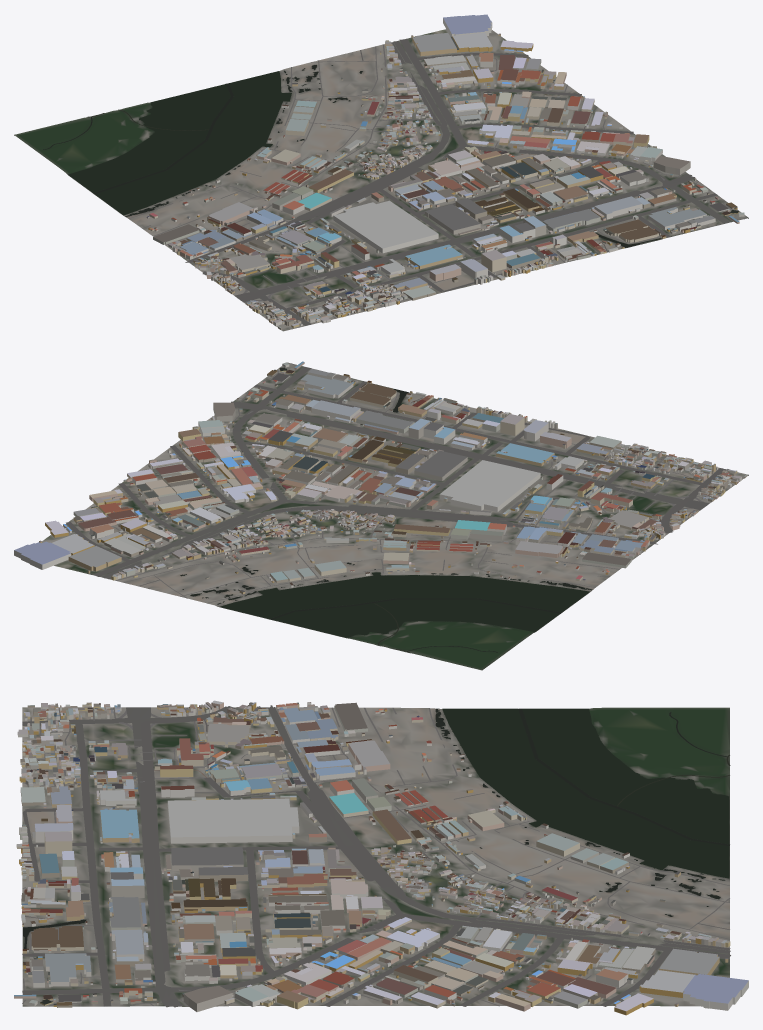
3 renders of one model, top to bottom at view 1: azimuth 30°, elevation 25°; view 2: azimuth 150°, elevation 25°; view 3: azimuth 270°, elevation 25°, orthographic. The views are drawn at different scales.
Parts seen in each view (by area): view 1: buildings, ground, water, roads; view 2: buildings, ground, water, roads; view 3: buildings, ground, water, roads.
Part boxes in pixels (<box>): buildings: <box>146,14,744,329</box>; ground: <box>14,29,748,331</box>; water: <box>43,65,661,247</box>; roads: <box>128,39,744,325</box>; buildings: <box>14,361,747,594</box>; ground: <box>42,362,748,670</box>; water: <box>180,383,592,652</box>; roads: <box>66,363,734,603</box>; buildings: <box>14,700,748,1015</box>; ground: <box>22,707,729,1006</box>; water: <box>23,708,730,948</box>; roads: <box>22,705,730,1007</box>.
Size of the model in its own units: 1452 by 38.94 by 1455.
